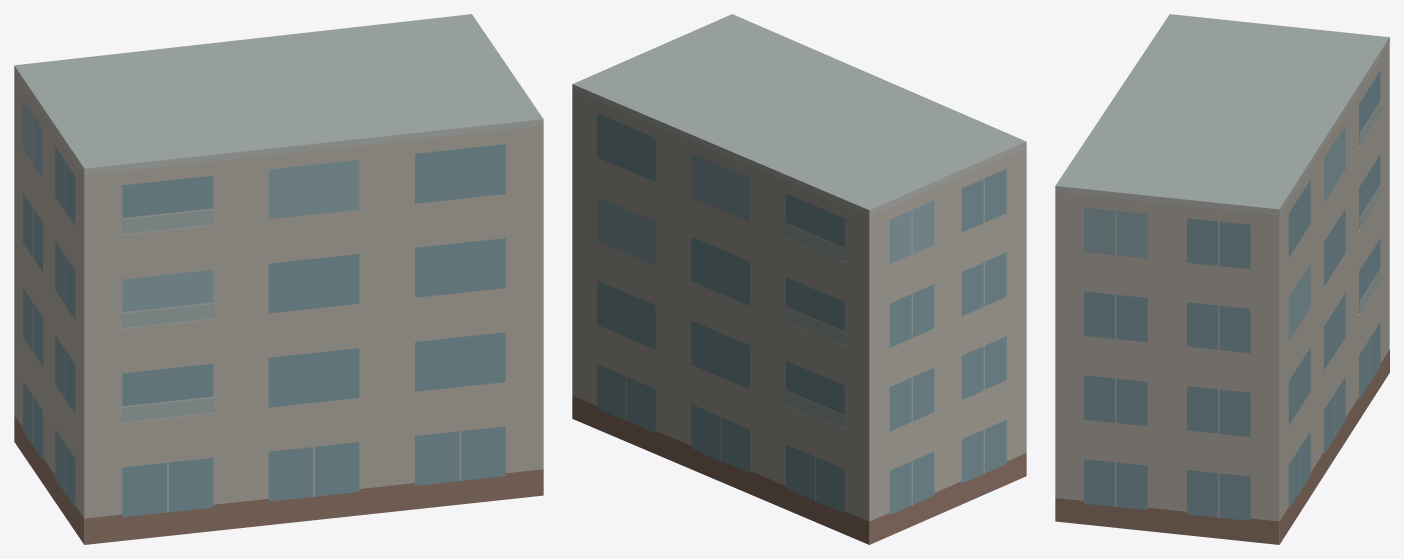
File: survey-upis-32557139.glb
3 renders of one model, left to right at view 1: azimuth 30°, elevation 25°; view 2: azimuth 150°, elevation 25°; view 3: azimuth 270°, elevation 25°, orthographic. The views are drawn at different scales.
Parts seen in each view (by area): view 1: survey-upis-32557139.tmp; view 2: survey-upis-32557139.tmp; view 3: survey-upis-32557139.tmp.
Part boxes in pixels (<box>): survey-upis-32557139.tmp: <box>14,14,543,544</box>; survey-upis-32557139.tmp: <box>572,14,1026,544</box>; survey-upis-32557139.tmp: <box>1055,14,1389,544</box>.
Bounding box in the file's own units: 17.37 × 13.9 × 12.57.
